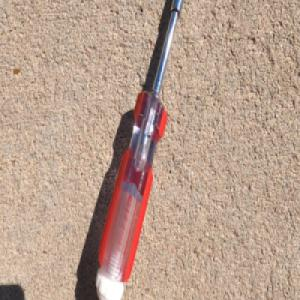Screwdriver: (93, 0, 183, 299)
